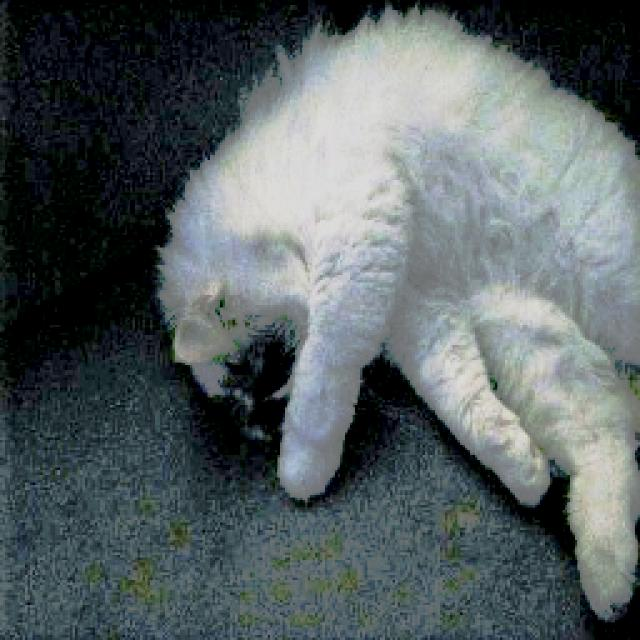cat: (150, 14, 640, 622)
